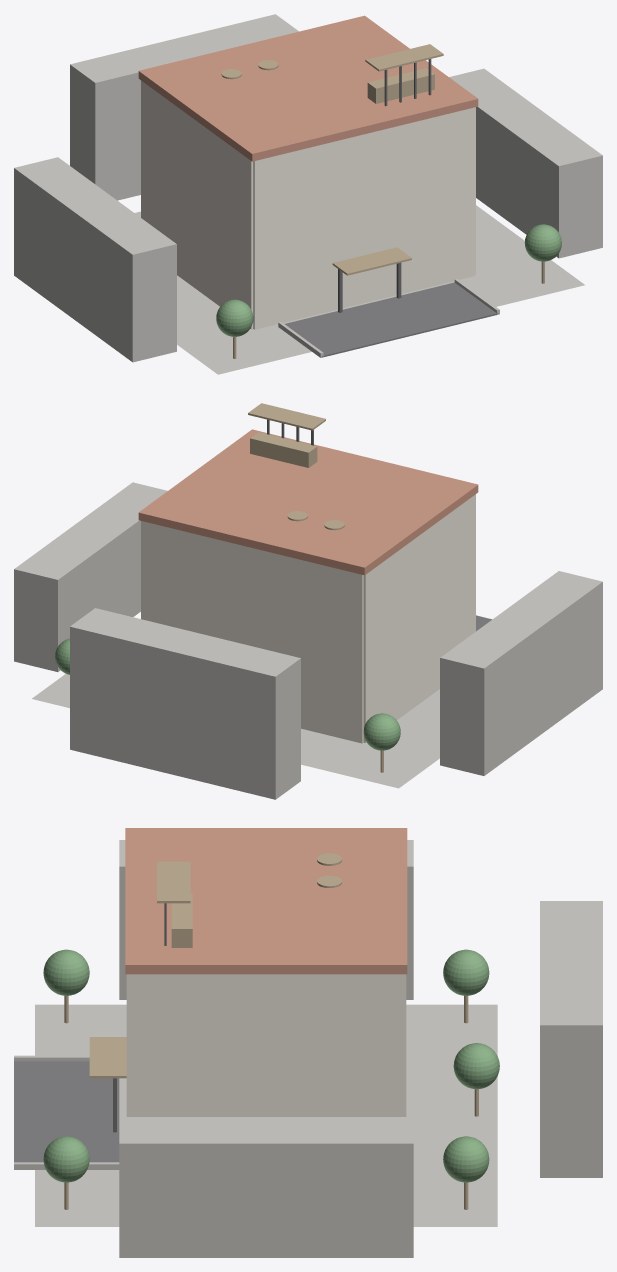
3 views of the same model, one above another, from view 1: azimuth 30°, elevation 25°; view 2: azimuth 150°, elevation 25°; view 3: azimuth 270°, elevation 25° (orthographic). The views are drawn at different scales.
Visible parts, largest first — view 1: Roof_Main_Pitch, Site_NeighborW, Site_NeighborE, Site_NeighborN, Wall_Ext_S_F1, Wall_Ext_S_F2, Wall_Ext_S_F3, Site_Ground, Site_Driveway, Wall_Ext_W_F2, Wall_Ext_W_F3, Wall_Ext_W_F1 (+5 smaller); view 2: Site_NeighborN, Roof_Main_Pitch, Site_NeighborW, Site_NeighborE, Wall_Ext_N_F3, Wall_Ext_N_F2, Site_Ground, Wall_Ext_W_F2, Wall_Ext_W_F3, Wall_Ext_W_F1, Wall_Ext_N_F1, Roof_Bar_Counter (+2 smaller); view 3: Site_NeighborE, Roof_Main_Pitch, Site_Ground, Wall_Ext_E_F2, Wall_Ext_E_F3, Site_NeighborN, Site_Driveway, Wall_Ext_E_F1, Site_NeighborW, Site_Tree4_Canopy, Site_Tree1_Canopy, Site_Tree2_Canopy (+5 smaller).
Part boxes in pixels (x1,y1,x2,y2): Roof_Main_Pitch: (138,15,478,161); Site_NeighborW: (14,157,176,362); Site_NeighborE: (449,68,602,258); Site_NeighborN: (70,14,298,200); Wall_Ext_S_F1: (253,214,474,329); Wall_Ext_S_F2: (253,161,474,268); Wall_Ext_S_F3: (253,107,474,214); Site_Ground: (135,205,584,374); Site_Driveway: (285,282,498,357); Wall_Ext_W_F2: (141,133,253,267); Wall_Ext_W_F3: (141,80,253,213); Wall_Ext_W_F1: (141,187,253,329); Site_NeighborN: (70,608,300,799); Roof_Main_Pitch: (138,429,478,575); Site_NeighborW: (440,571,602,775); Site_NeighborE: (14,482,167,671); Wall_Ext_N_F3: (142,521,363,627); Wall_Ext_N_F2: (142,574,363,681); Site_Ground: (32,674,439,788); Wall_Ext_W_F2: (363,547,475,681); Wall_Ext_W_F3: (363,494,475,627); Wall_Ext_W_F1: (363,601,475,742); Wall_Ext_N_F1: (301,667,363,743); Roof_Bar_Counter: (250,432,317,467); Site_NeighborE: (119,1117,413,1257); Roof_Main_Pitch: (125,828,407,974); Site_Ground: (35,1004,497,1226); Wall_Ext_E_F2: (129,1040,402,1107); Wall_Ext_E_F3: (129,974,402,1040); Site_NeighborN: (540,901,602,1177); Site_Driveway: (14,1061,119,1162); Wall_Ext_E_F1: (129,1107,402,1116); Site_NeighborW: (119,840,413,999); Site_Tree4_Canopy: (443,1136,489,1182); Site_Tree1_Canopy: (43,949,89,995); Site_Tree2_Canopy: (43,1136,89,1182).
Size of the model in its own units: 32 by 14.26 by 28.
